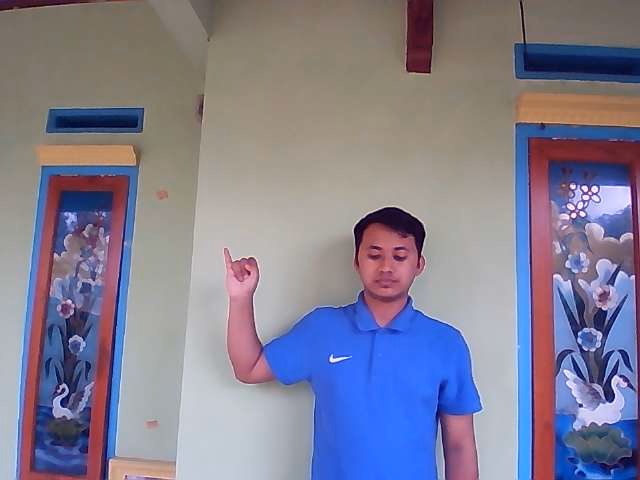I: (221, 246, 261, 300)
